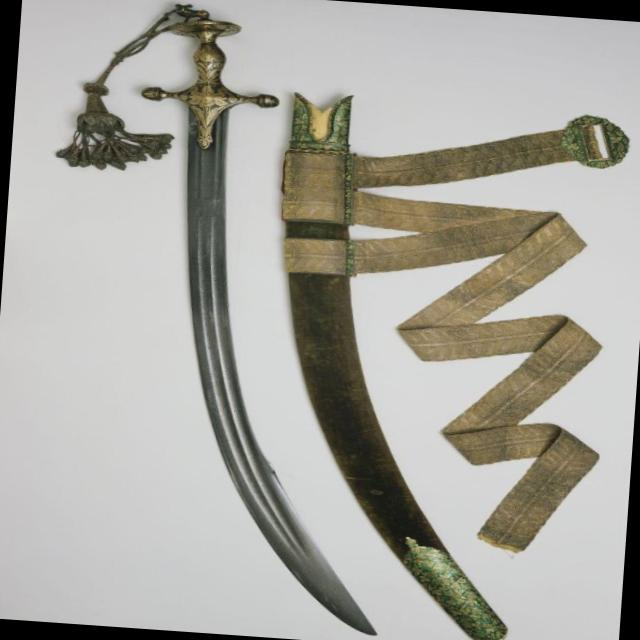Weapon: (92, 2, 422, 640)
